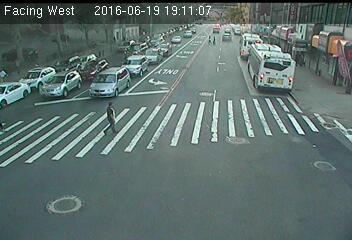neg: (165, 146, 185, 172), (189, 103, 206, 126), (224, 73, 239, 93), (235, 124, 248, 142), (260, 85, 272, 101), (197, 58, 206, 70)
pos: (94, 98, 123, 137), (210, 32, 221, 46), (203, 31, 213, 44)
